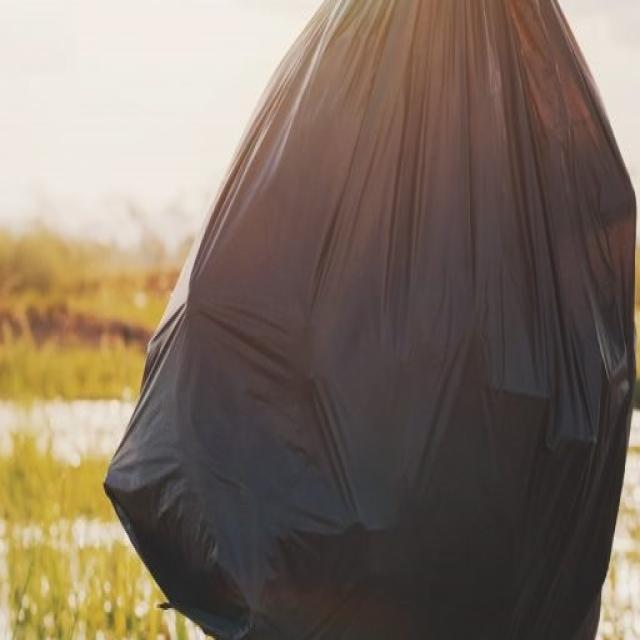Trashbag: (94, 13, 634, 640)
